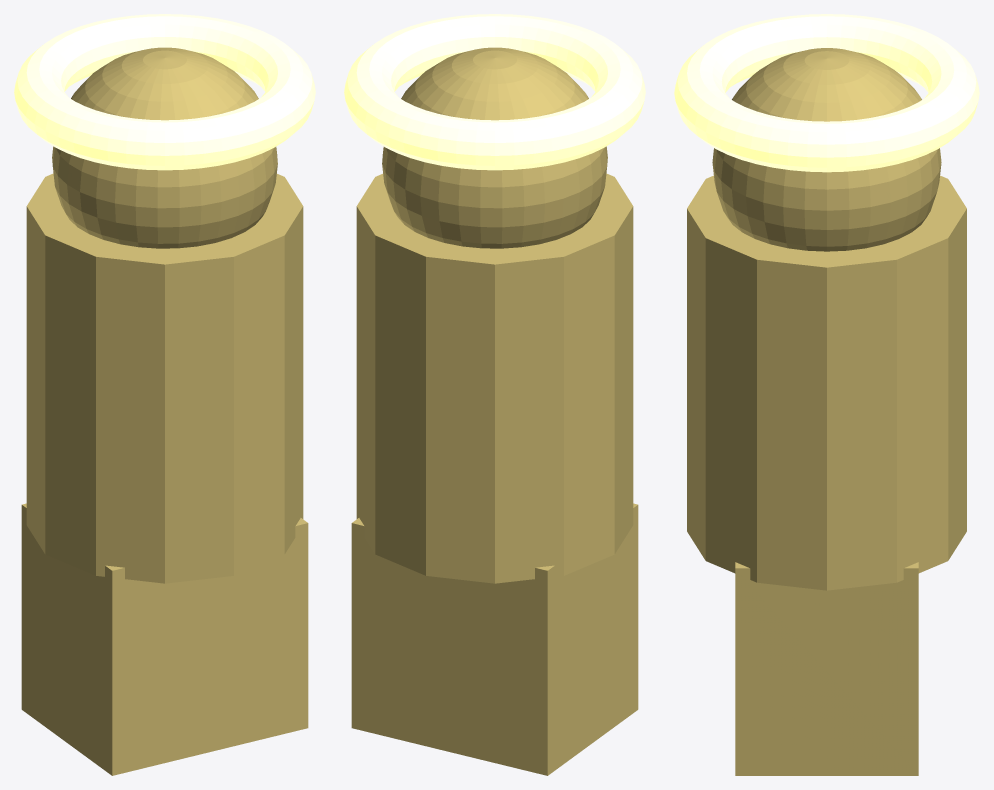
File: SunGodEmpyreanIdol.glb
3 renders of one model, left to right at view 1: azimuth 30°, elevation 25°; view 2: azimuth 150°, elevation 25°; view 3: azimuth 270°, elevation 25°, orthographic.
Parts seen in each view (by area): view 1: SunGodEmpyreanIdol; view 2: SunGodEmpyreanIdol; view 3: SunGodEmpyreanIdol.
Boxes of the visible parts, x1=… form: SunGodEmpyreanIdol: x1=14, y1=14, x2=315, y2=775; SunGodEmpyreanIdol: x1=344, y1=14, x2=645, y2=775; SunGodEmpyreanIdol: x1=674, y1=14, x2=979, y2=775.
Size of the model in its own units: 1.2 by 2.9 by 1.2.
